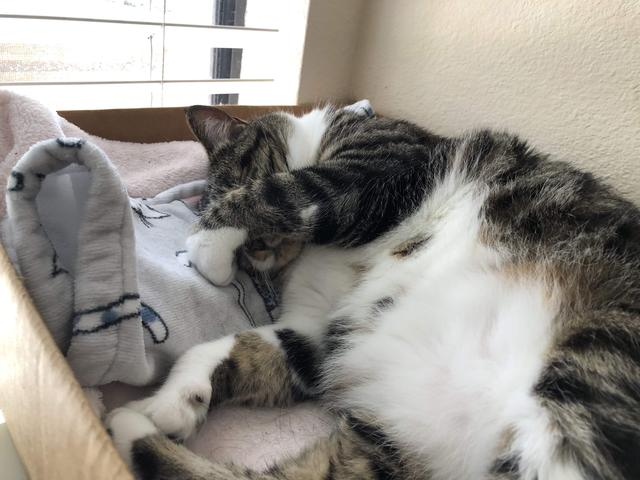playdoh: (103, 102, 640, 480)
